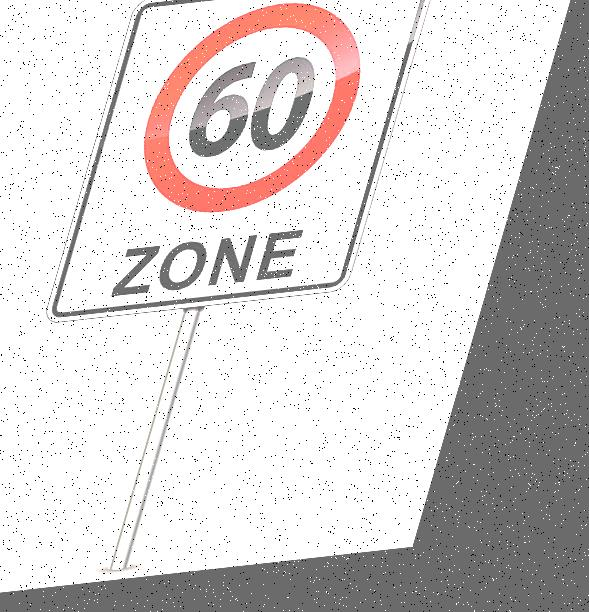Speed Limit -60-: (120, 0, 393, 236)
